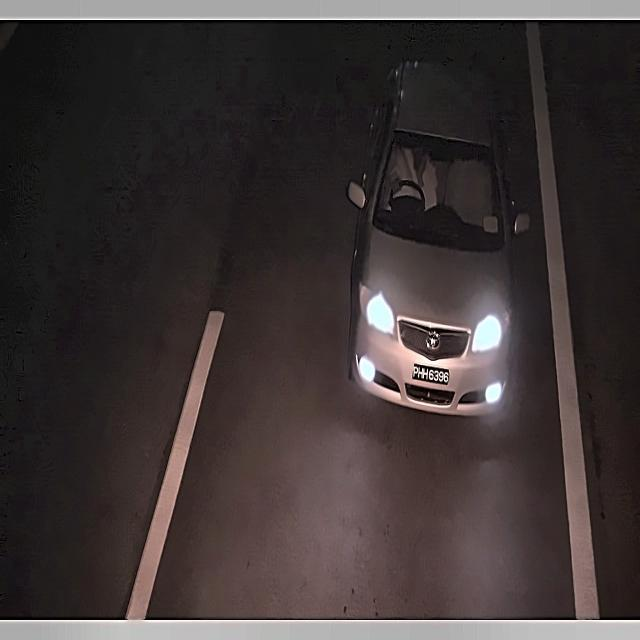car: (406, 360, 458, 390)
